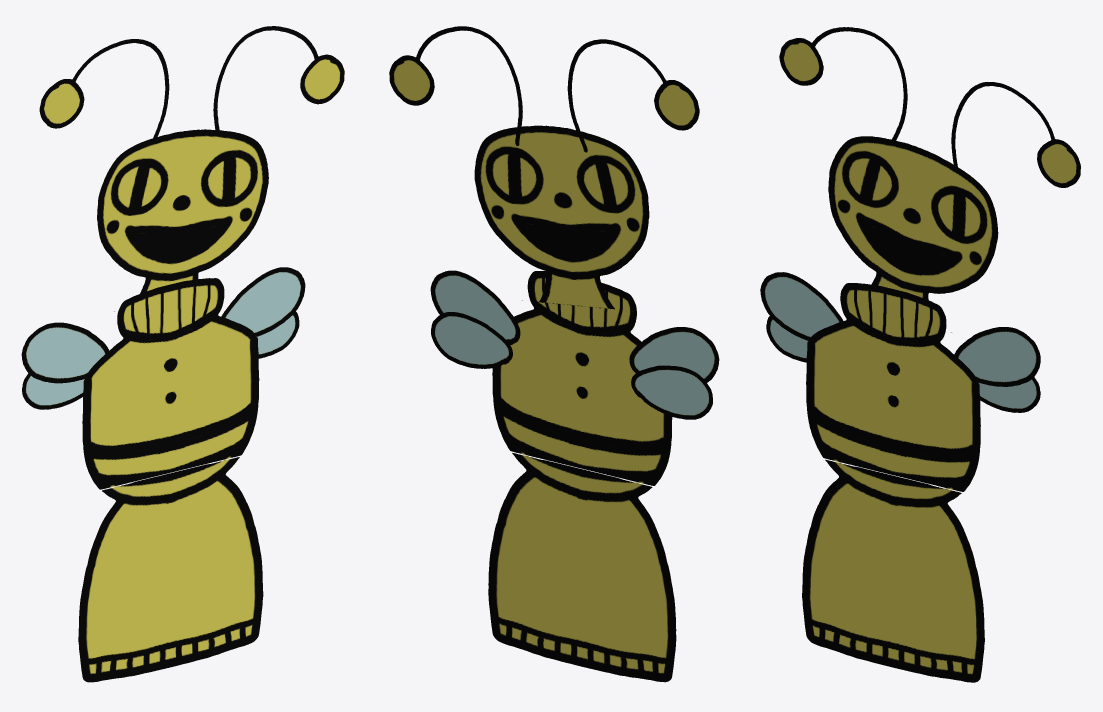
File: tempbee.fbx
The picture shows the model from 3 angles, left to right: view 1: azimuth 30°, elevation 25°; view 2: azimuth 150°, elevation 25°; view 3: azimuth 330°, elevation 25°; orthographic projection. The views are drawn at different scales.
Visible parts, largest first — view 1: Body.001, Head, Wing.001, Antenna, Wing; view 2: Body.001, Head, Wing, Wing.001, Antenna; view 3: Body.001, Head, Wing.001, Antenna, Wing.
Boxes of the visible parts, x1,y1,x2,y2 form: Body.001: (78,278,263,682); Head: (97,129,268,311); Wing.001: (21,267,305,383); Antenna: (39,26,344,138); Wing: (22,311,299,409); Body.001: (488,271,676,682); Head: (474,125,649,311); Wing: (431,312,712,419); Wing.001: (430,270,719,382); Antenna: (389,26,699,152); Body.001: (802,283,984,682); Head: (828,136,998,332); Wing.001: (760,272,1040,386); Antenna: (779,27,1080,187); Wing: (766,316,1040,412).
Bounding box in the file's own units: 246 × 451 × 12.74.
1 material, 1 textured.
